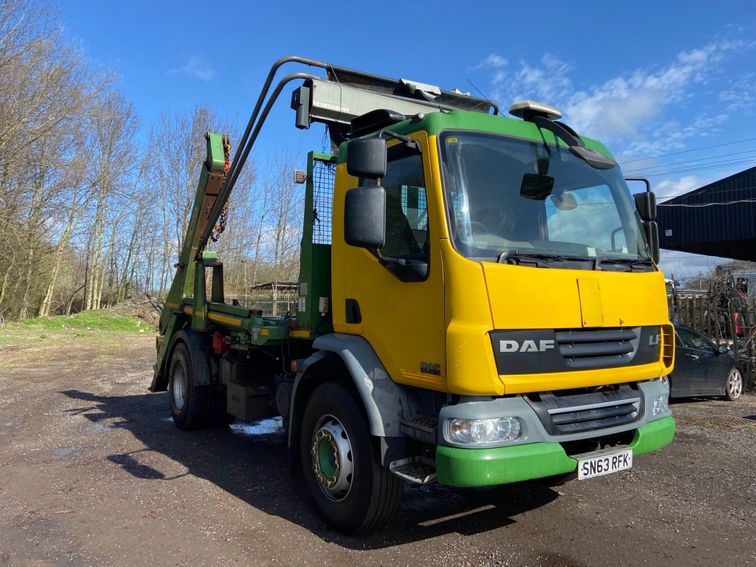Semi: (147, 54, 677, 529)
